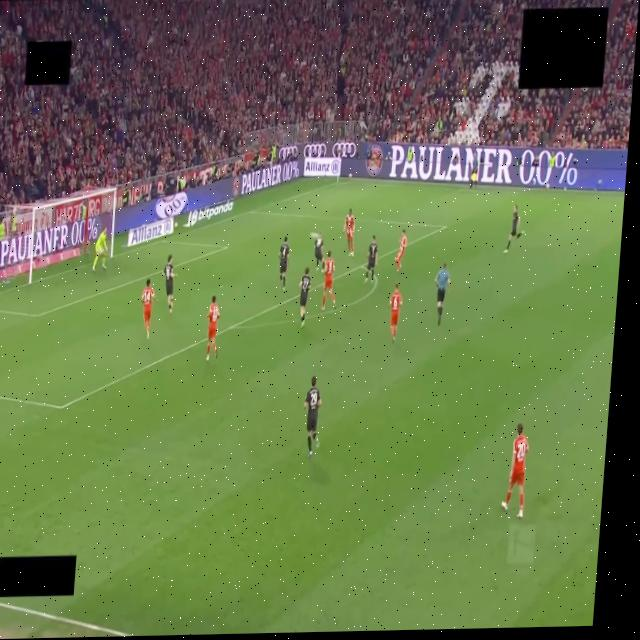ball: (311, 233, 318, 238)
player: (502, 424, 528, 518), (304, 376, 321, 456), (138, 279, 159, 340), (504, 204, 523, 252), (206, 296, 220, 361), (322, 251, 336, 310), (389, 284, 402, 342), (299, 268, 311, 328), (163, 255, 175, 314), (93, 228, 107, 271), (343, 209, 355, 256), (279, 236, 289, 290), (366, 235, 377, 281), (395, 230, 407, 271), (314, 233, 324, 272)
referee: (435, 263, 450, 326)
